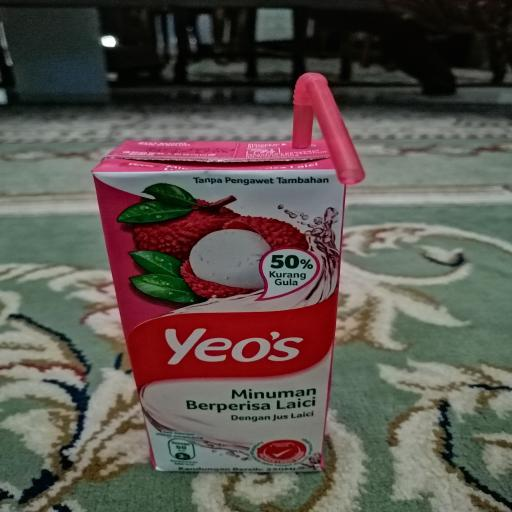drink carton: (92, 138, 344, 480)
